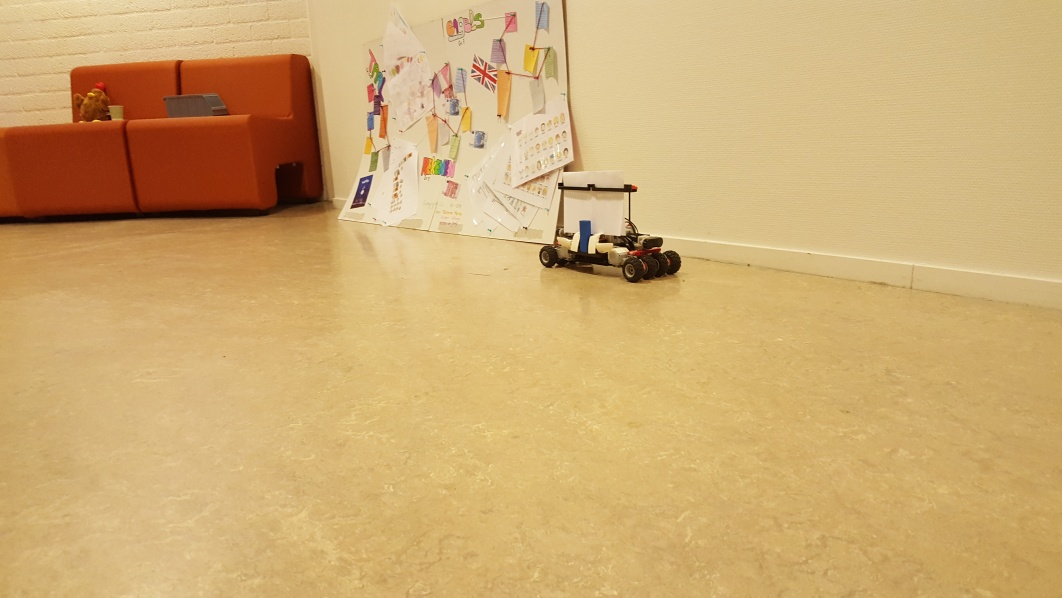beam: (577, 217, 594, 252)
